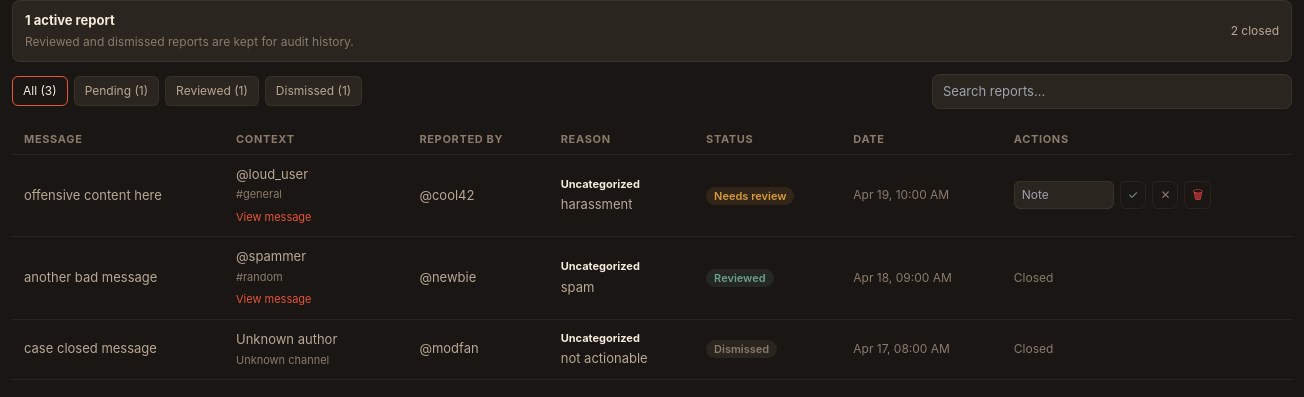
ReportsTable — filtering › filters reports by status
Click the button with test id "report-filter-pending": (116, 91) [74,76,159,106]
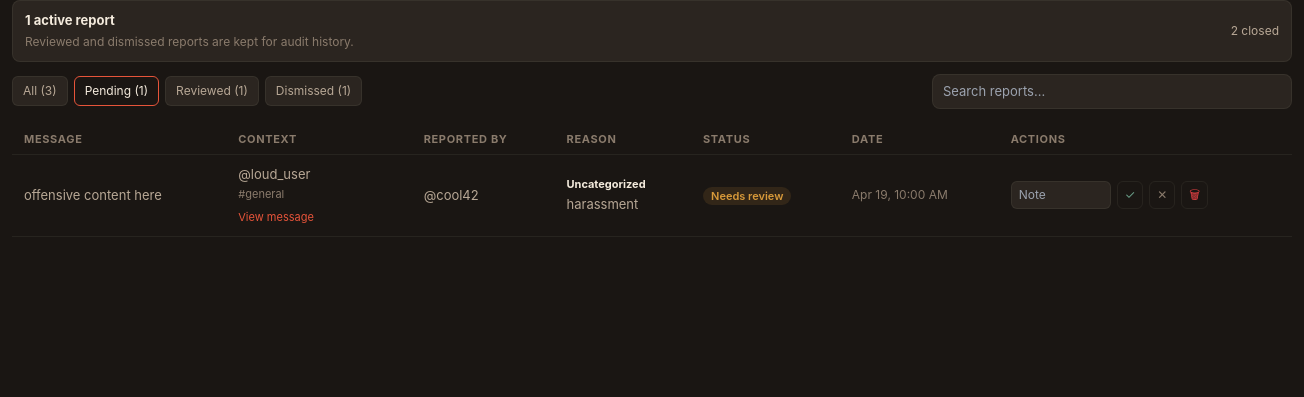
Expected: the text "offensive content here" is shown, [24,186,162,202]
Now the number of rows with class "report-row" is 1, box [12,154,1292,236]
Now the text "another bad message" is gone
